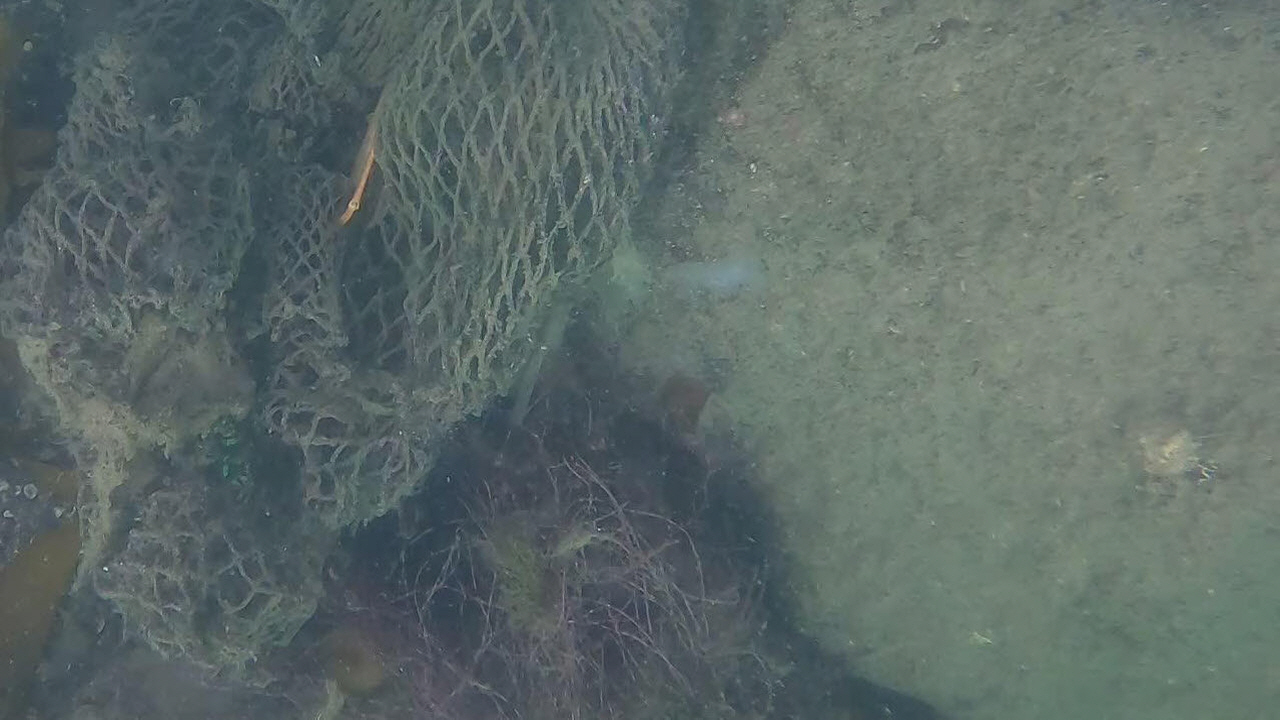fish net: (0, 0, 689, 671)
